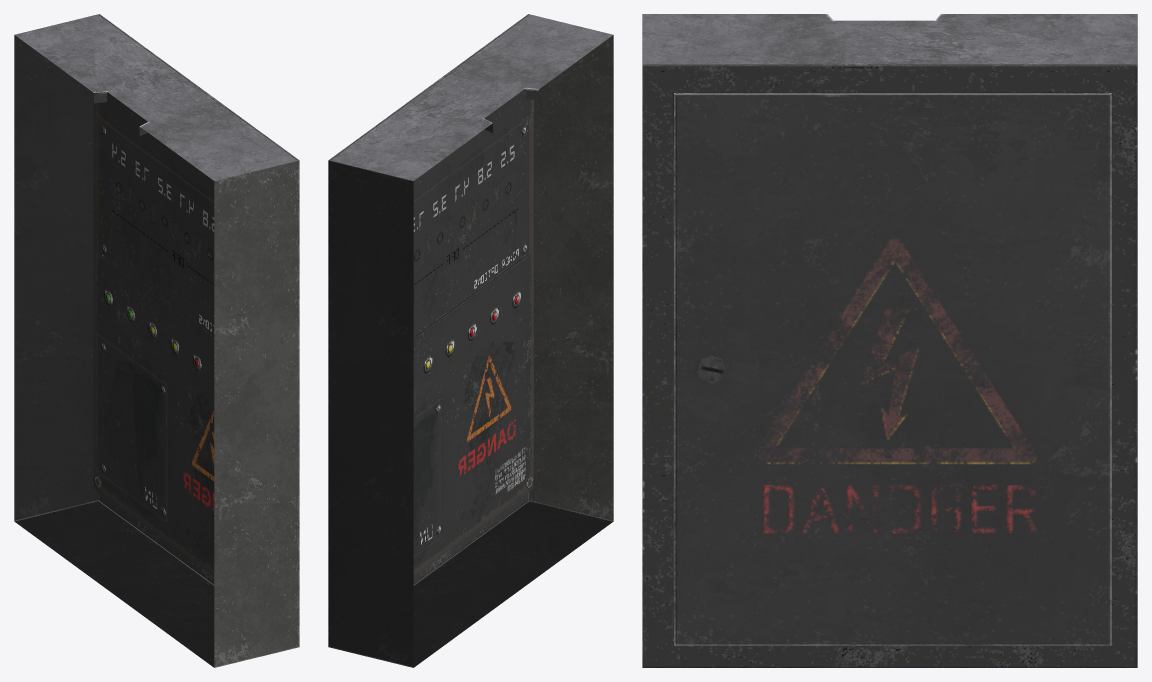
File: Power_Panel.fbx
3 renders of one model, left to right at view 1: azimuth 30°, elevation 25°; view 2: azimuth 150°, elevation 25°; view 3: azimuth 270°, elevation 25°, orthographic. The views are drawn at different scales.
Parts seen in each view (by area): view 1: Power_Panel; view 2: Power_Panel; view 3: Door.002, Power_Panel.
Part boxes in pixels (left/top/right/bottom): Power_Panel: left=14, top=14, right=299, bottom=667; Power_Panel: left=328, top=14, right=613, bottom=667; Door.002: left=674, top=93, right=1111, bottom=645; Power_Panel: left=642, top=14, right=1137, bottom=667.
Bounding box in the file's own units: 11.9 × 60.36 × 44.94.
1 material, 1 textured.
